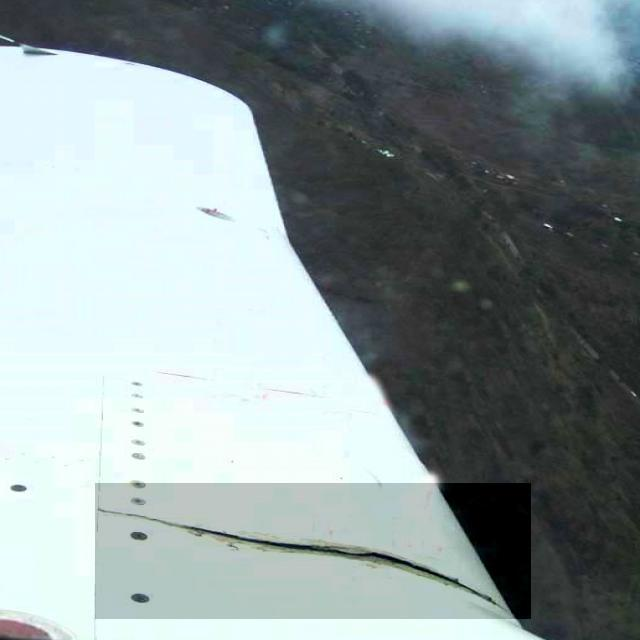crack: (96, 484, 532, 620)
